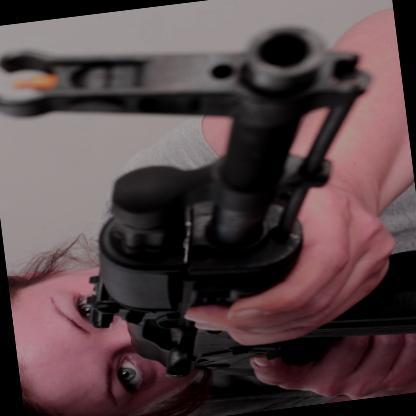rifle: (16, 14, 416, 413)
